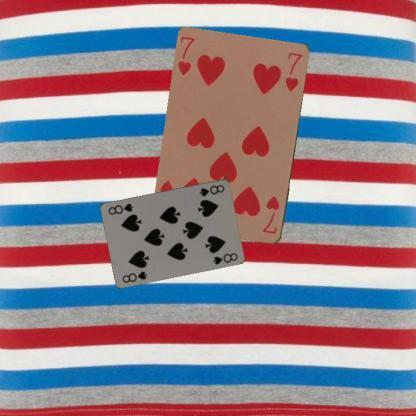7h: (176, 34, 197, 77), (260, 194, 281, 236)
8s: (197, 182, 226, 198), (120, 268, 148, 284)
